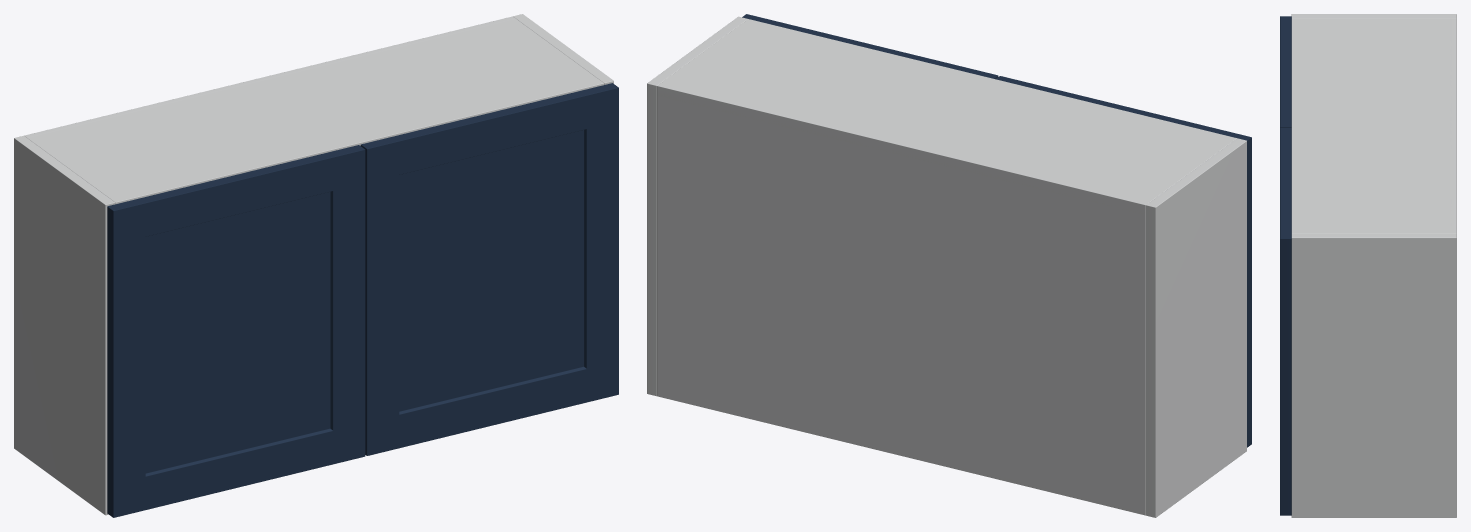
The model's file is oppein-pb-bss-w3621.glb.
3 views of the same model, side by side, from view 1: azimuth 30°, elevation 25°; view 2: azimuth 150°, elevation 25°; view 3: azimuth 270°, elevation 25° (orthographic). The views are drawn at different scales.
Parts seen in each view (by area): view 1: Door, Door.001, Cabinet top, Cabinet side, Cabinet back, Cabinet side.001; view 2: Cabinet back, Cabinet top, Cabinet side, Cabinet side.001, Door, Door.001, Cabinet bottom; view 3: Cabinet side.001, Cabinet top, Door.001, Cabinet back, Door, Cabinet side.
Boxes of the visible parts, bbox=[...] form: Door: bbox=[107, 145, 365, 517]; Door.001: bbox=[360, 83, 618, 455]; Cabinet top: bbox=[26, 17, 603, 204]; Cabinet side: bbox=[14, 135, 115, 515]; Cabinet back: bbox=[24, 16, 515, 137]; Cabinet side.001: bbox=[513, 14, 613, 84]; Cabinet back: bbox=[657, 83, 1148, 515]; Cabinet top: bbox=[657, 19, 1236, 214]; Cabinet side: bbox=[1146, 138, 1246, 517]; Cabinet side.001: bbox=[647, 16, 747, 396]; Door: bbox=[996, 76, 1251, 447]; Door.001: bbox=[742, 14, 998, 79]; Cabinet bottom: bbox=[658, 390, 1144, 514]; Cabinet side.001: bbox=[1291, 233, 1456, 517]; Cabinet top: bbox=[1291, 18, 1456, 233]; Door.001: bbox=[1280, 128, 1291, 515]; Cabinet back: bbox=[1450, 18, 1456, 233]; Door: bbox=[1280, 16, 1291, 127]; Cabinet side: bbox=[1291, 14, 1456, 18].
Bounding box in the file's own units: 0.9144 × 0.5334 × 0.3048.
